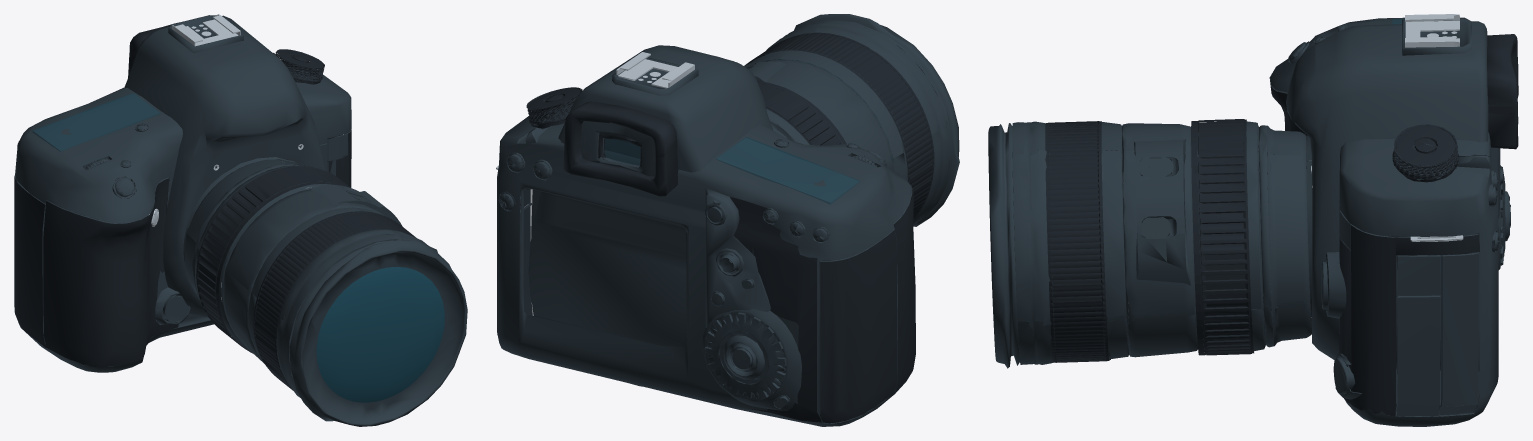
File: professional_camera.glb
3 renders of one model, left to right at view 1: azimuth 30°, elevation 25°; view 2: azimuth 150°, elevation 25°; view 3: azimuth 270°, elevation 25°, orthographic. The views are drawn at different scales.
Parts seen in each view (by area): view 1: professional_camera; view 2: professional_camera; view 3: professional_camera.
Part boxes in pixels (x1=…): professional_camera: x1=14, y1=14, x2=467, y2=426; professional_camera: x1=496, y1=14, x2=959, y2=426; professional_camera: x1=988, y1=14, x2=1518, y2=426.
Bounding box in the file's own units: 0.1854 × 0.1535 × 0.22.
